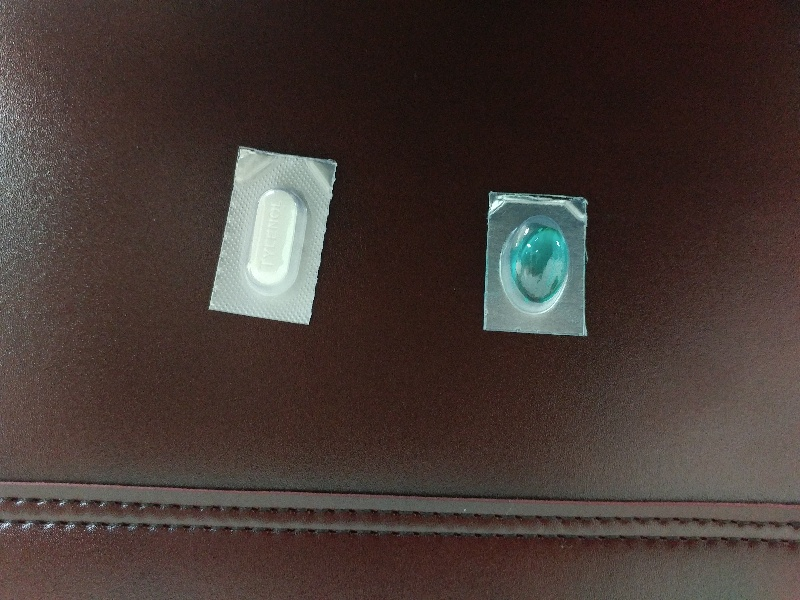pill_ezn: (482, 188, 588, 336)
pill_tylenol: (207, 145, 337, 326)
